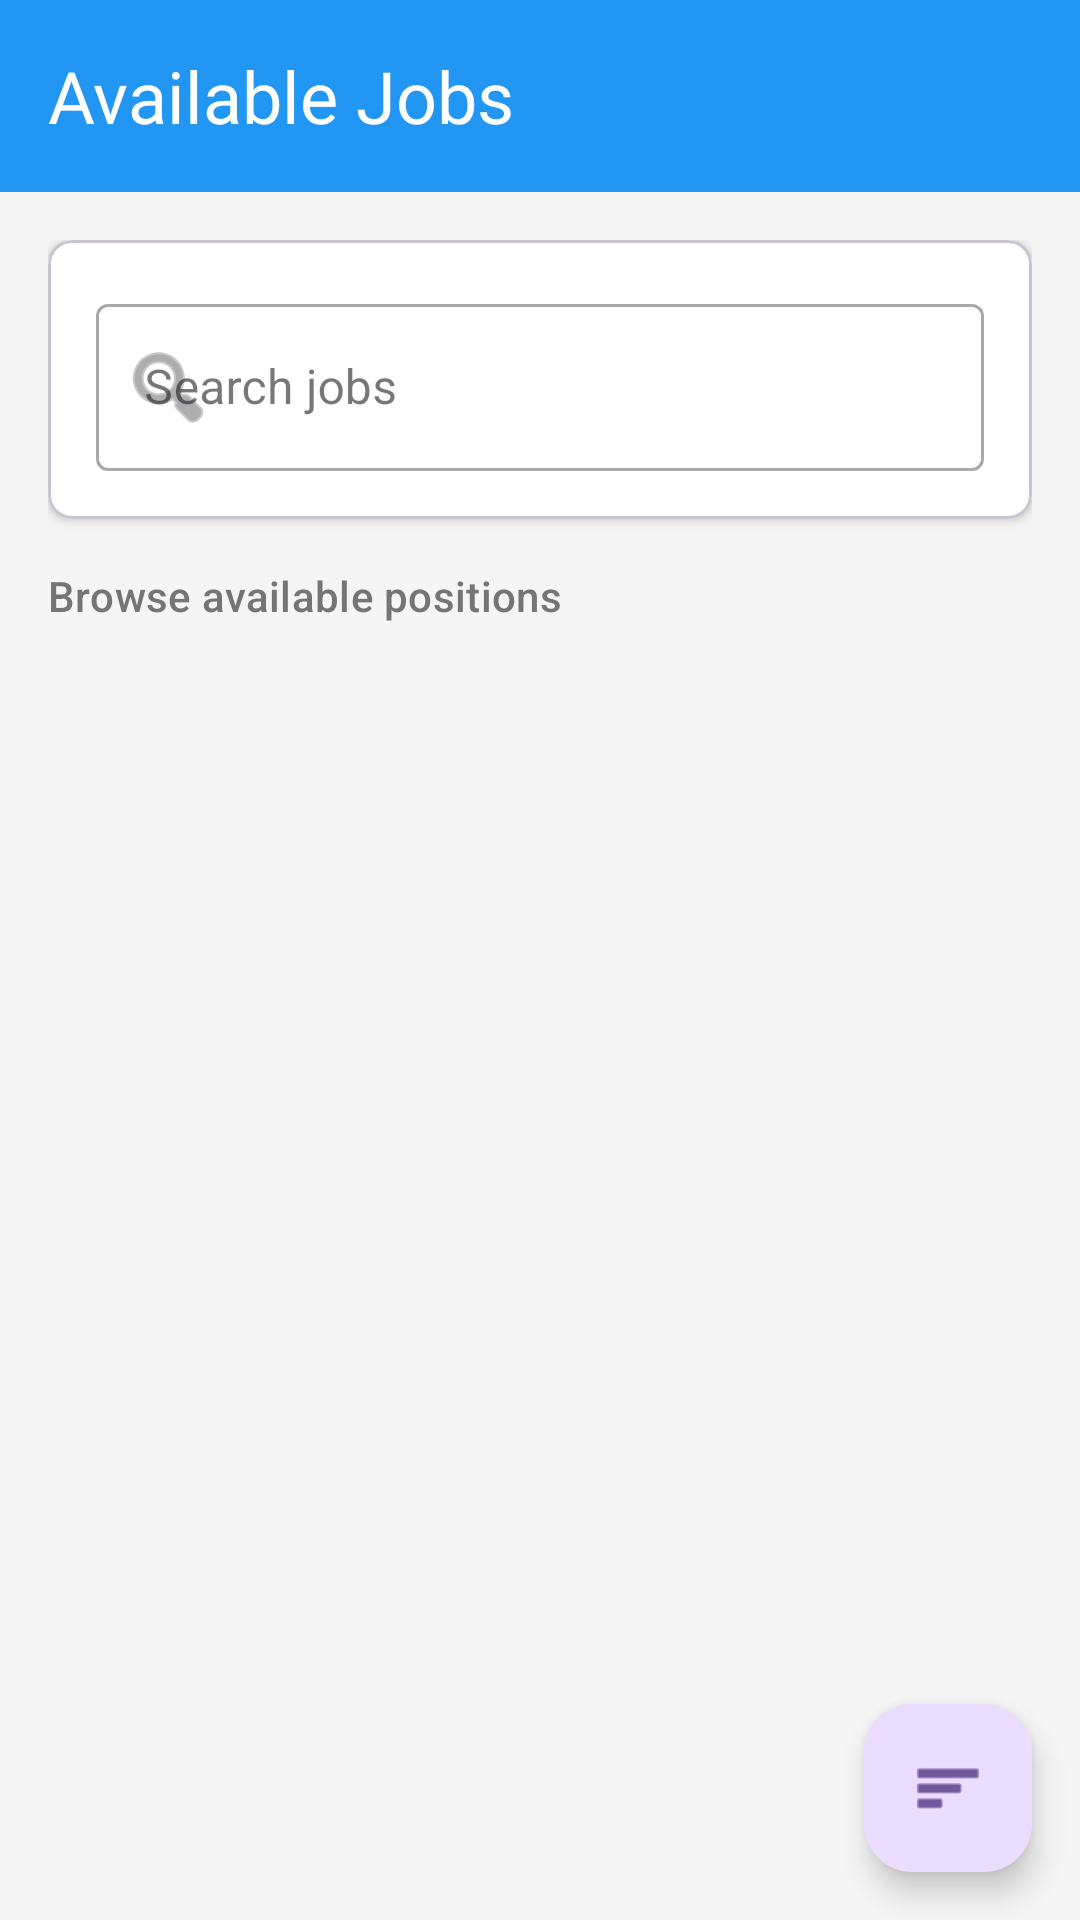

Screen size 1080px×1920px. Icon name, then its center in pixels as [x,y]:
Filter jobs: [948,1788]
